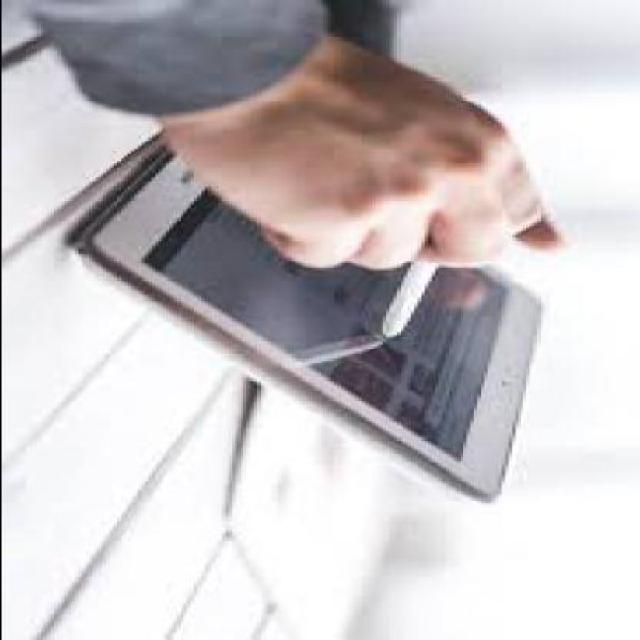tablet: (86, 120, 544, 444)
